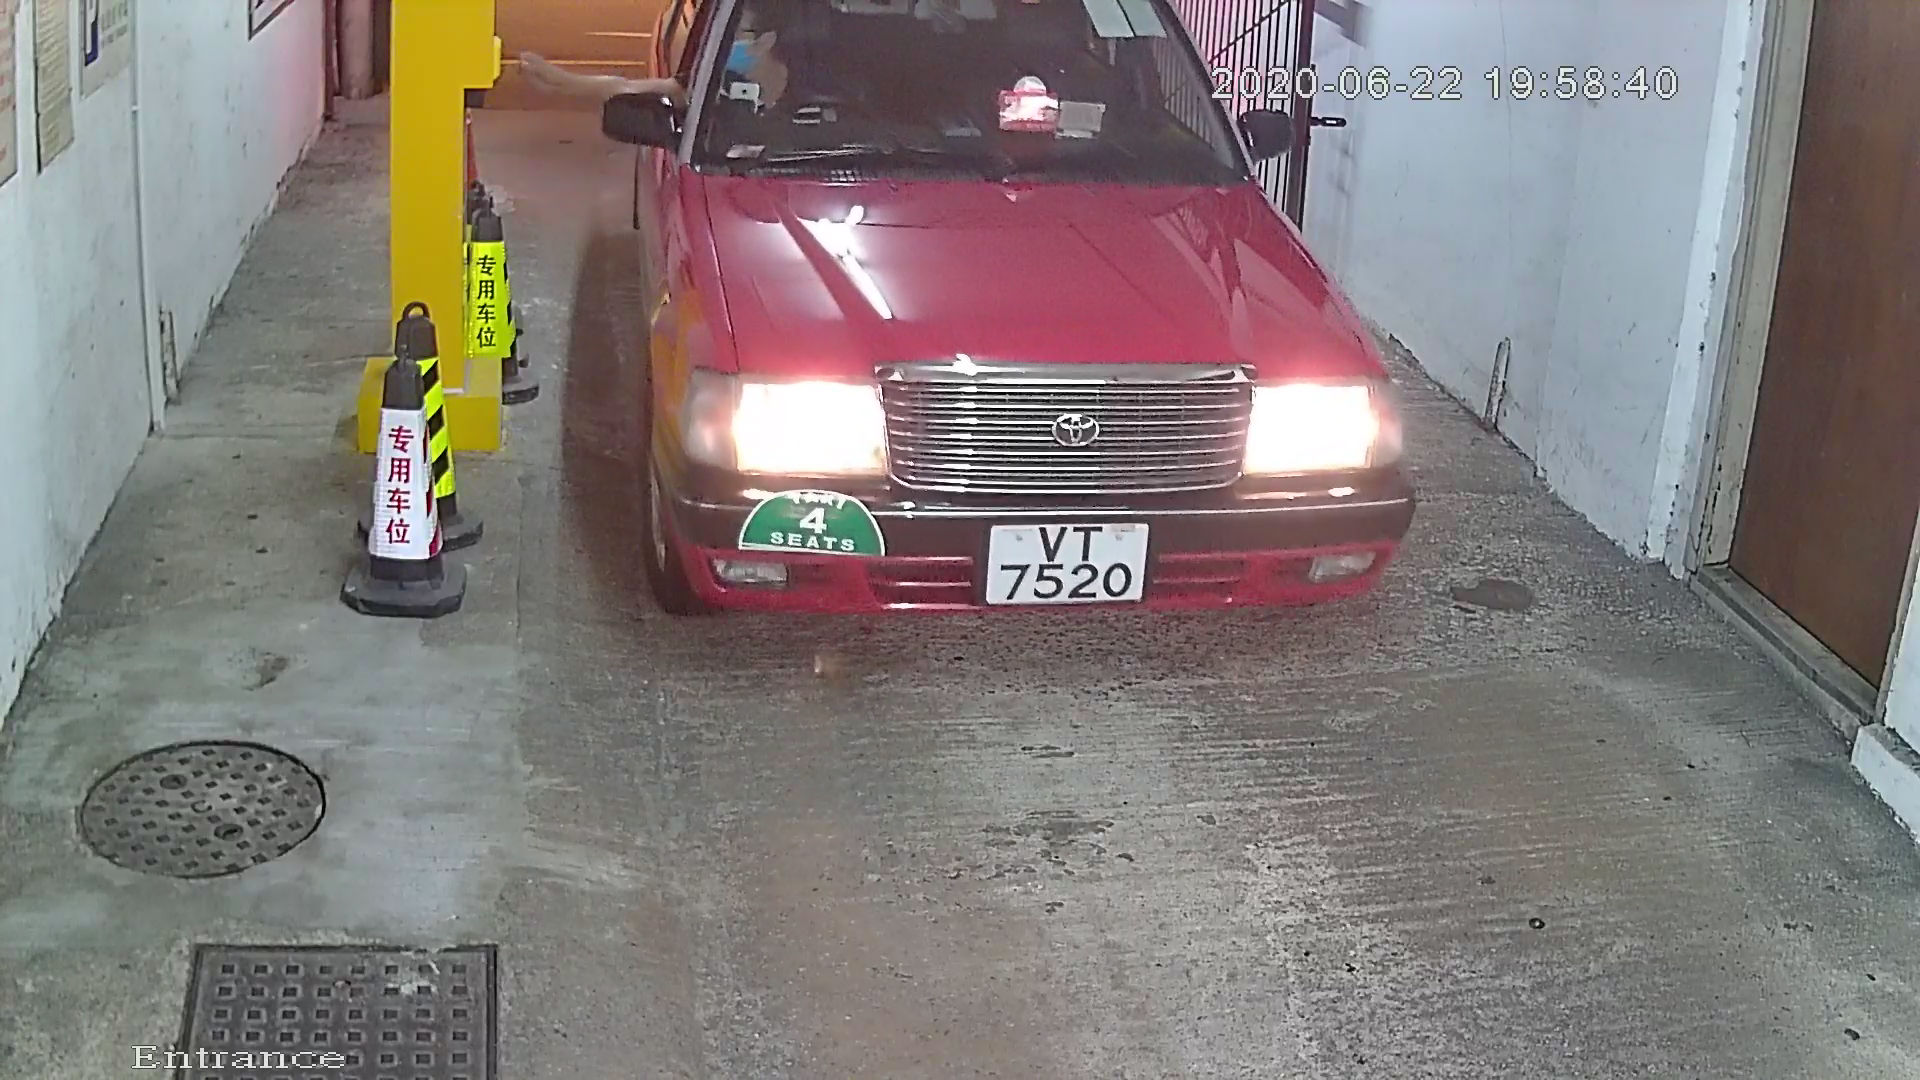taxi: (595, 3, 1518, 705)
taxi_mark: (707, 431, 897, 592)
